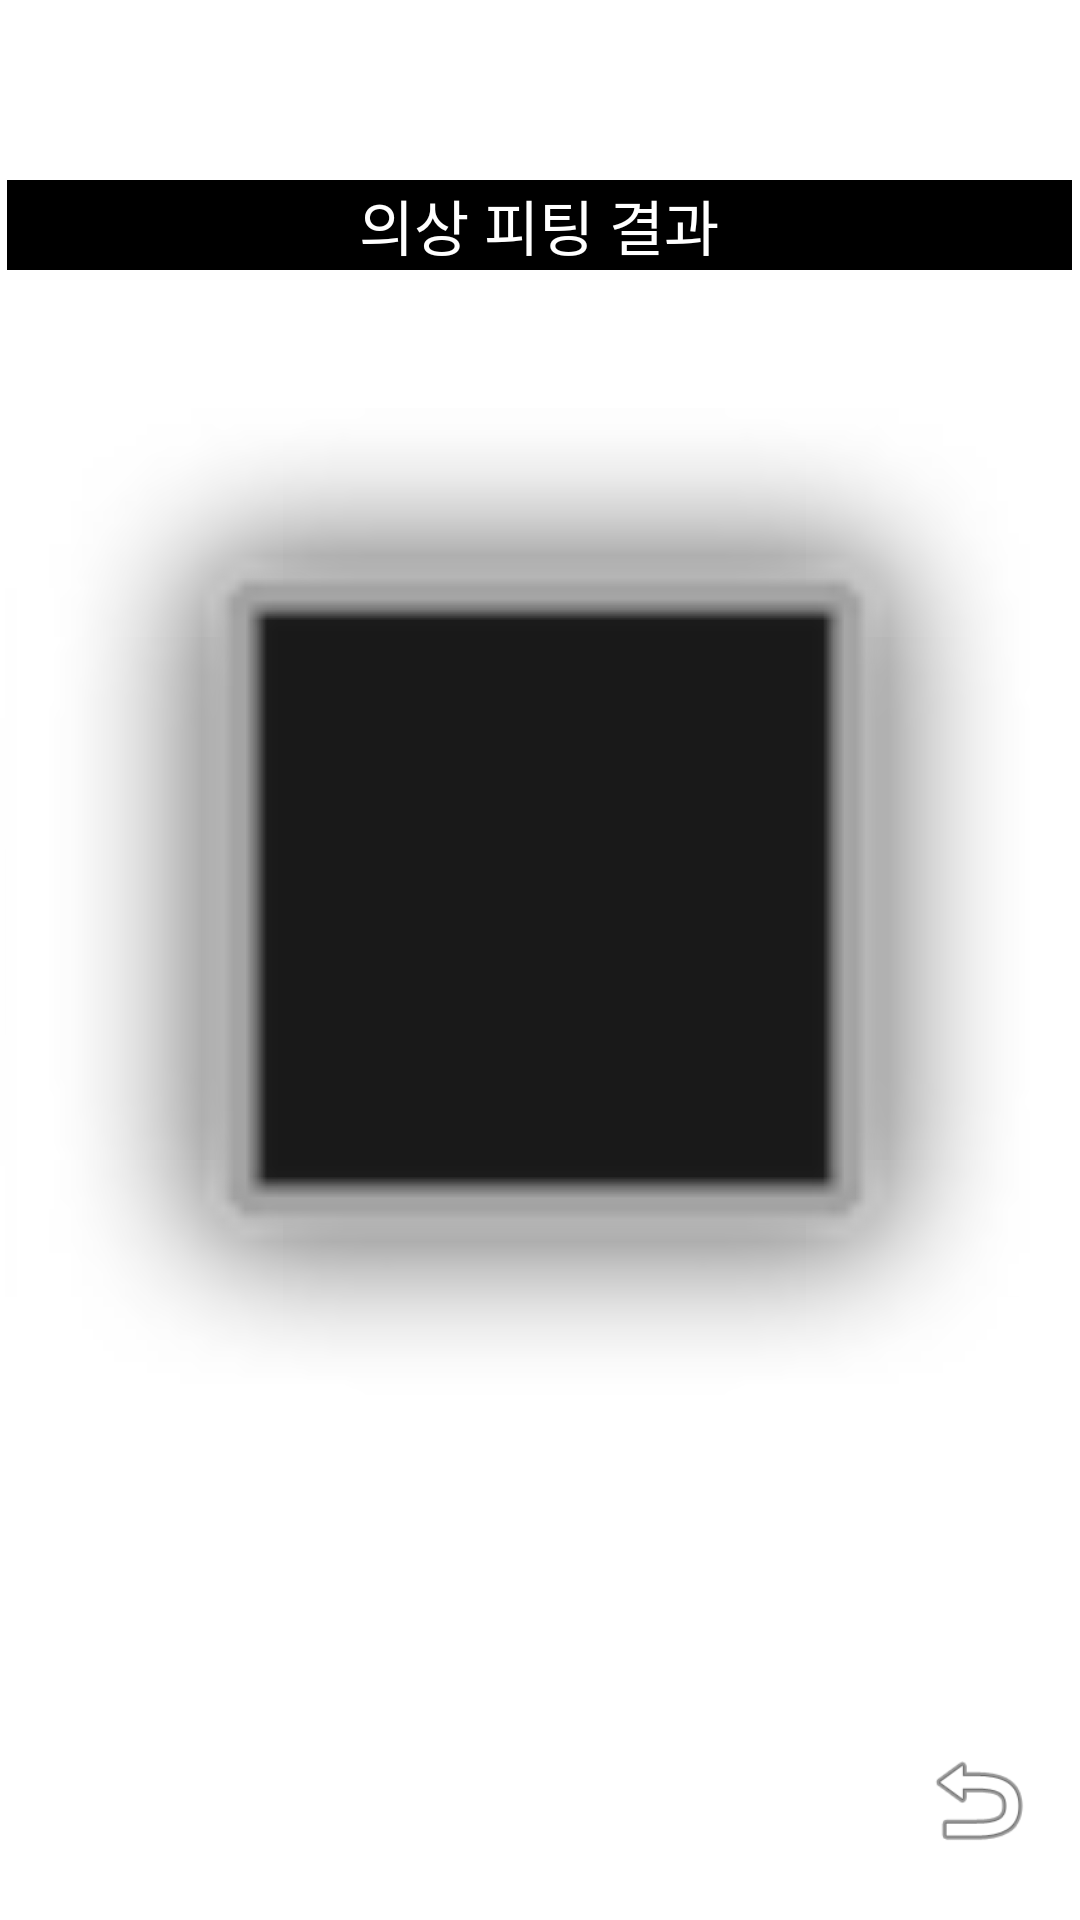

Where icons sit on this 1080*1920 app screen, as (x1, y1, x2, y2):
revert: (936, 1761, 1023, 1840)
